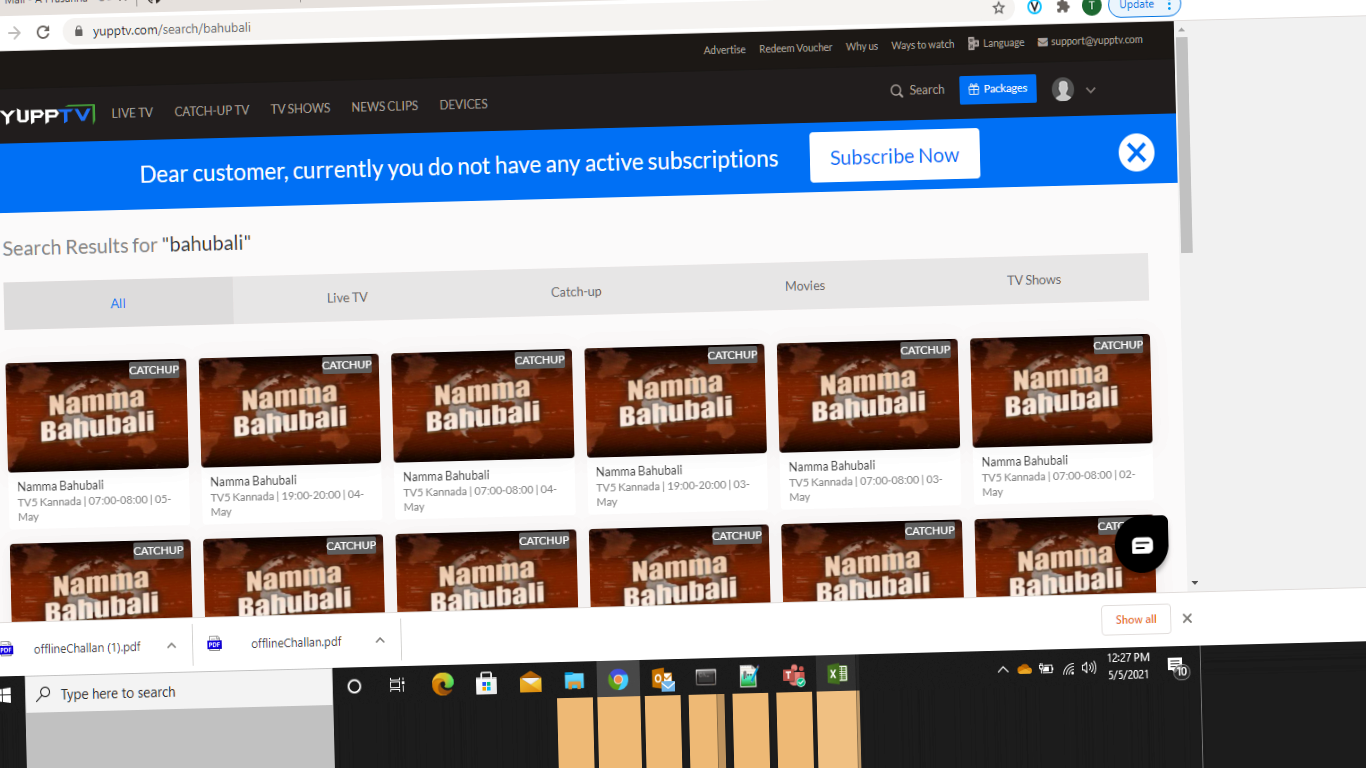profileicon: (1049, 68, 1107, 112)
resultsfound: (1, 222, 259, 268)
searchicon: (879, 75, 949, 108)
